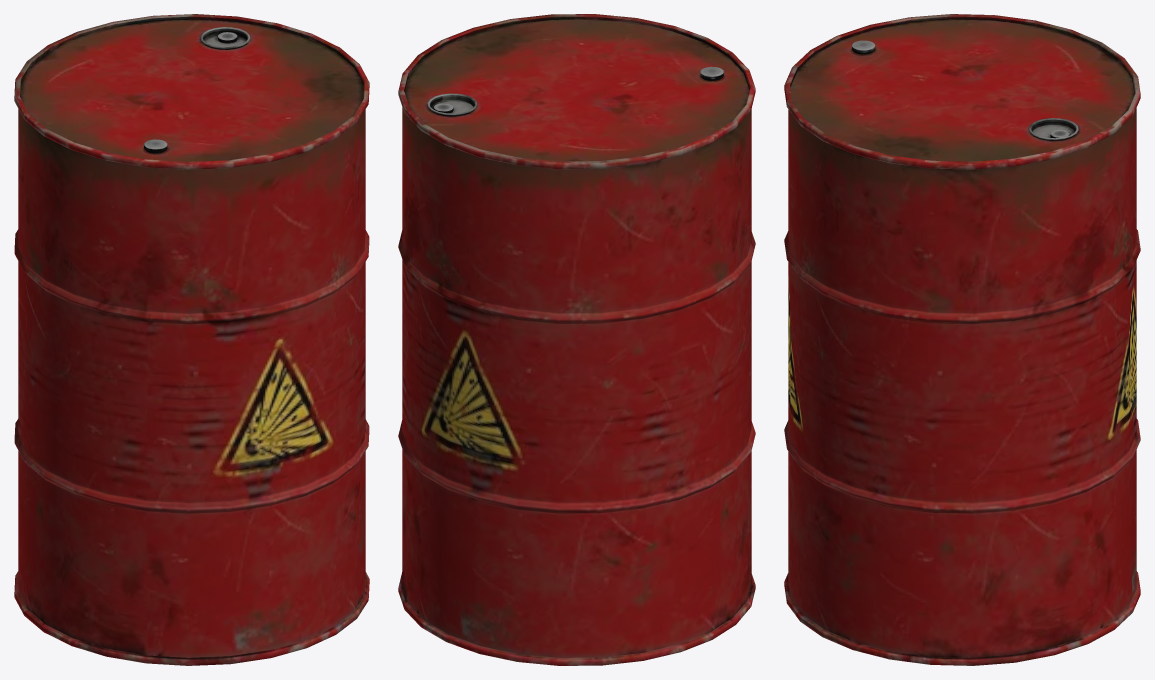
The model's file is tonneau_metal_lod0.glb.
3 renders of one model, left to right at view 1: azimuth 30°, elevation 25°; view 2: azimuth 150°, elevation 25°; view 3: azimuth 270°, elevation 25°, orthographic.
Parts seen in each view (by area): view 1: Barrel_01; view 2: Barrel_01; view 3: Barrel_01.
Boxes of the visible parts, x1,y1,x2,y2 form: Barrel_01: (14, 14, 369, 665); Barrel_01: (398, 14, 755, 665); Barrel_01: (784, 14, 1140, 665).
Size of the model in its own units: 0.5631 by 0.88 by 0.5631.
Materials: 1 (1 with a texture image).
